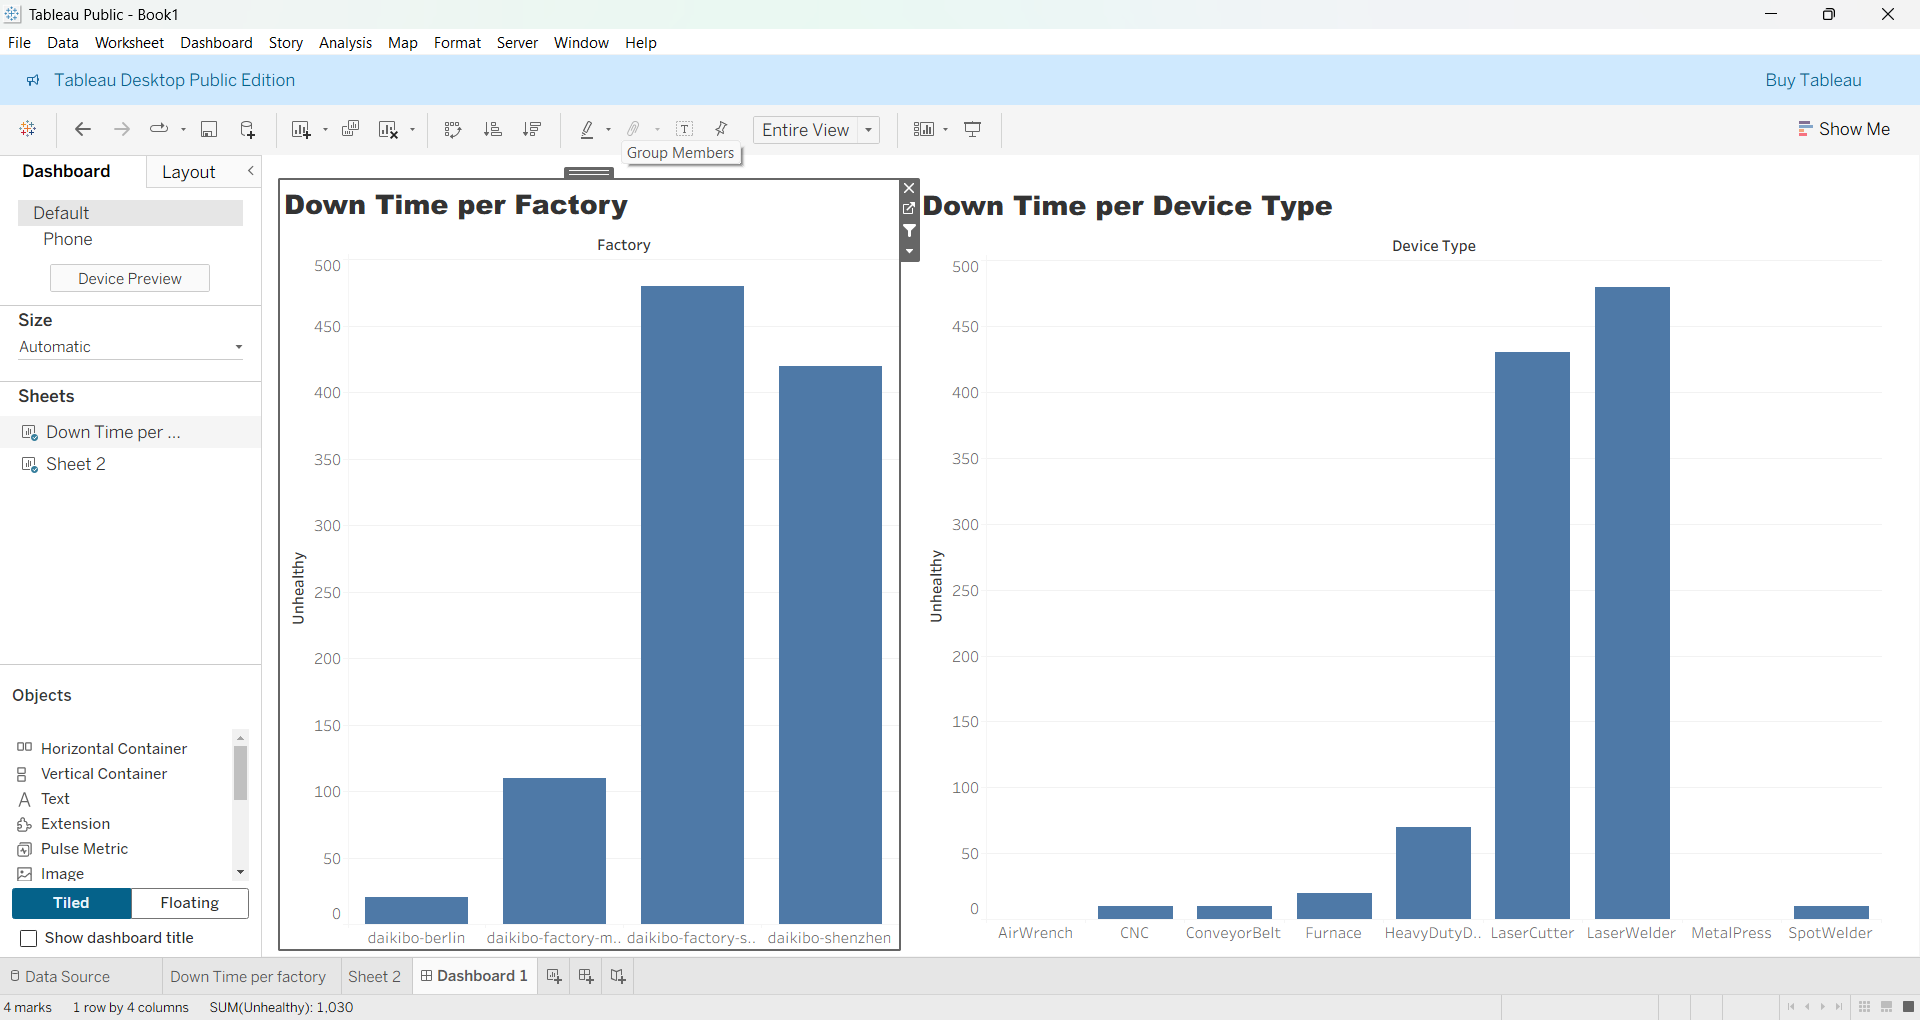

Layout of this report page (visuals, bound fields, positions):
{"tool":"tableau","page":{"name":"Dashboard 1","canvas":[1000,1000],"units":"permille","ordinal":0},"visuals":[{"type":"worksheet","title":"Down Time per factory","mark":"Automatic","rows":["Calculation_1244680188997633"],"cols":["factory"],"box":[10.9,31.2,373.6,960.1]},{"type":"worksheet","title":"Sheet 2","mark":"Automatic","rows":["Calculation_1244680188997633"],"cols":["deviceType"],"box":[395.9,32.5,581.8,952.6]}]}

Visuals, with their boxes on the dashboard's canvas, which has no fixed pixel size, in thousandths of its width and height (x1, y1, x2, y2). These are canvas units, not pixel positions in the 1920x1020 screenshot, which may show the page scaled, cropped or inside an application window:
"Down Time per factory" worksheet: x1=11 y1=31 x2=384 y2=991
"Sheet 2" worksheet: x1=396 y1=32 x2=978 y2=985
